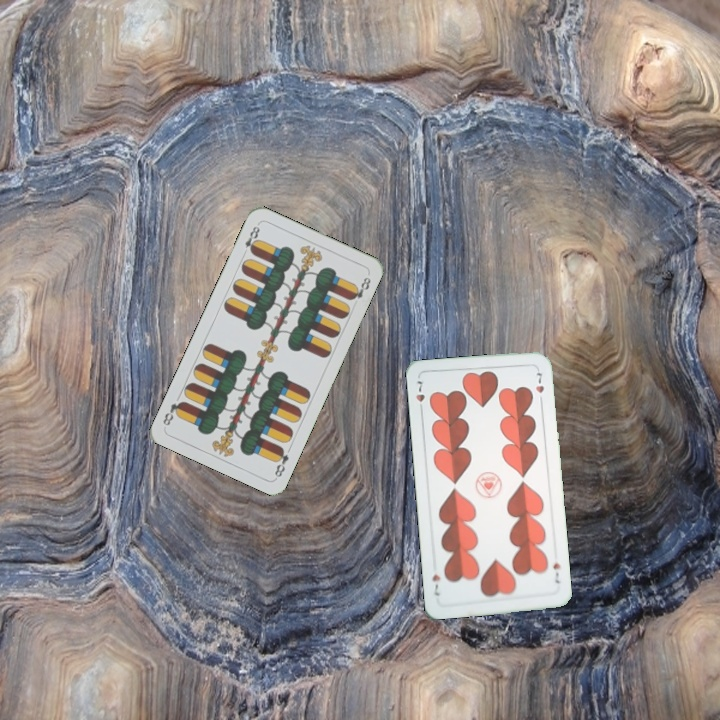E8: (270, 443, 292, 480), (240, 220, 262, 256)
H7: (412, 377, 427, 415), (549, 559, 563, 586)
